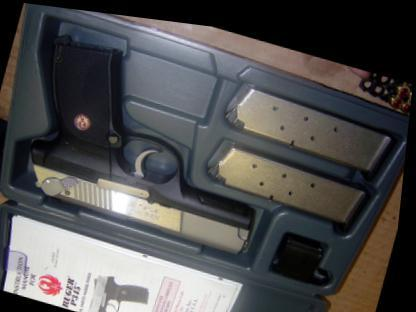pistol: (13, 25, 290, 256)
